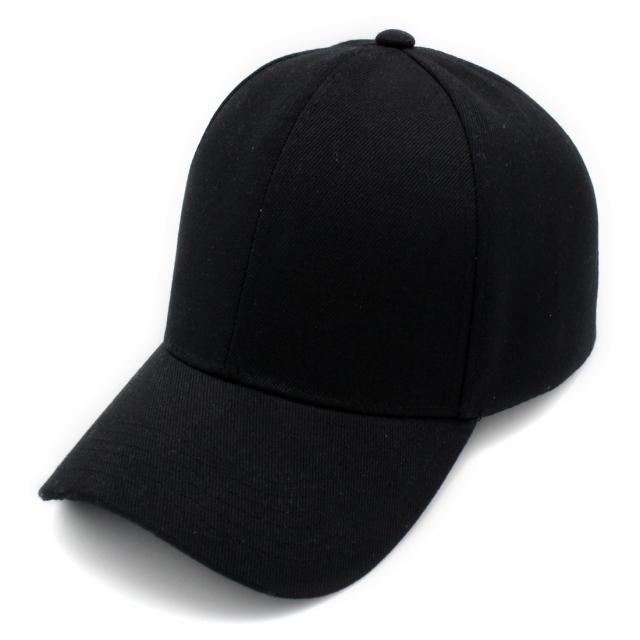Cap: (32, 30, 610, 602)
